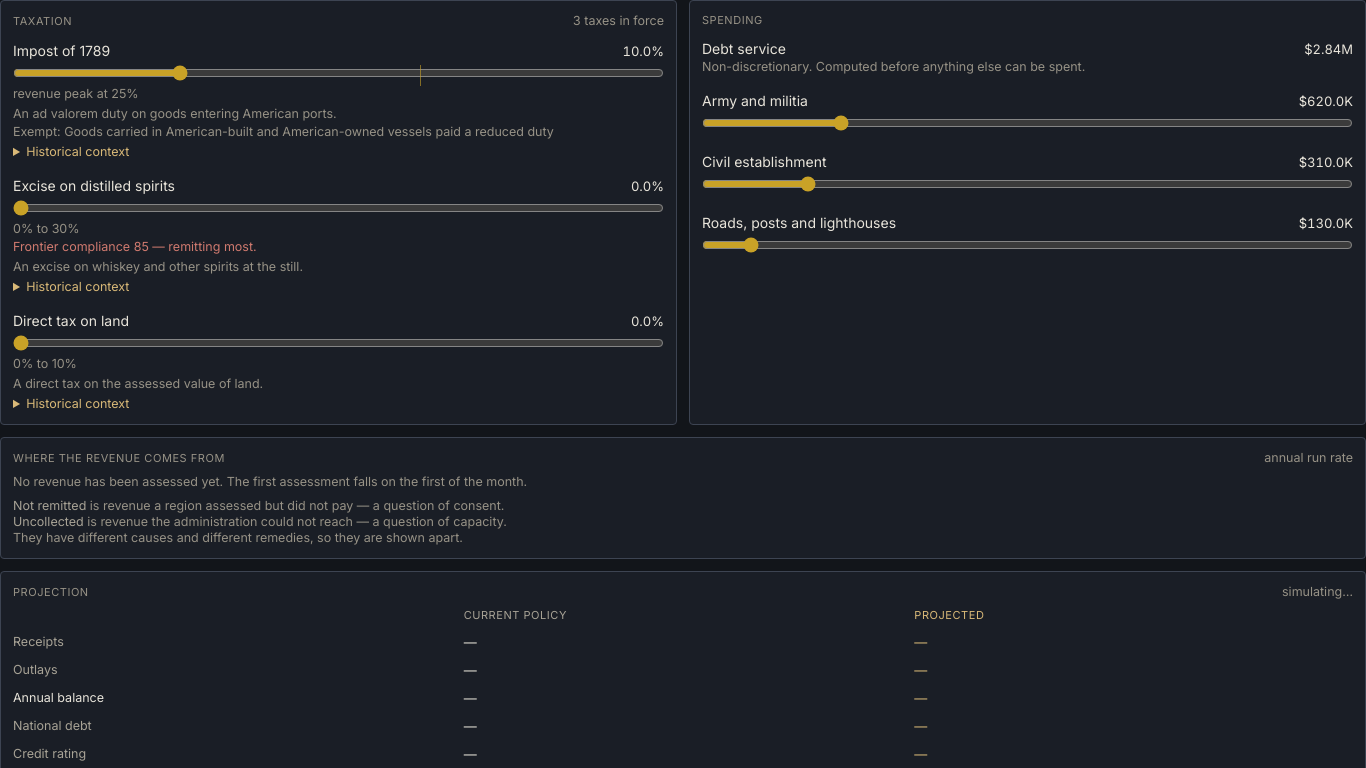
Test: the political capital gate on enacting a budget › disables Enact when the government cannot afford it, and says why
Set the slider labelled "Impost of 1789" to "0.35": (577,73) left=13, top=65, right=664, bottom=81
(page scrolled)
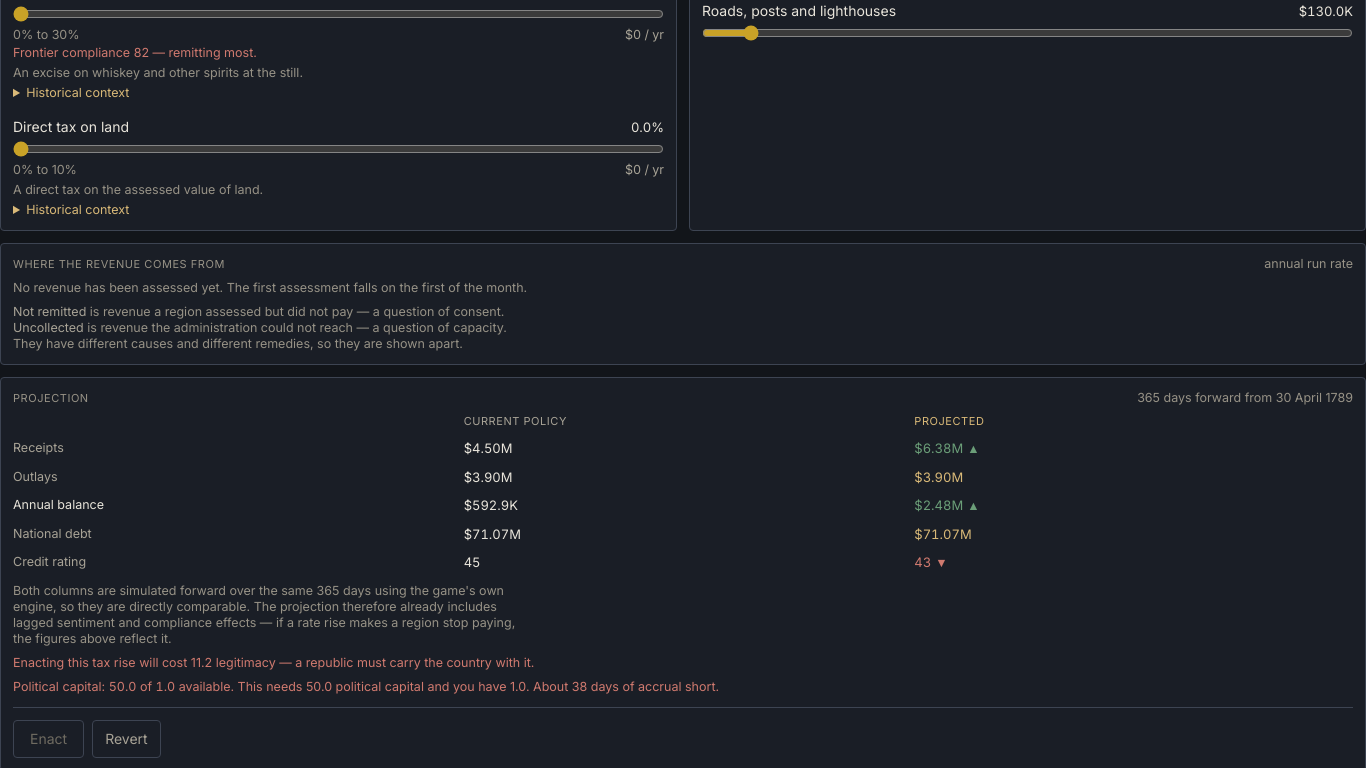
Expected: the button "Enact" is disabled, left=13, top=720, right=84, bottom=758
Result: the element with test id "capital-cost" shows "Political capital" at left=13, top=679, right=105, bottom=694
Result: the element with test id "capital-cost" shows "day" at left=13, top=679, right=719, bottom=694
